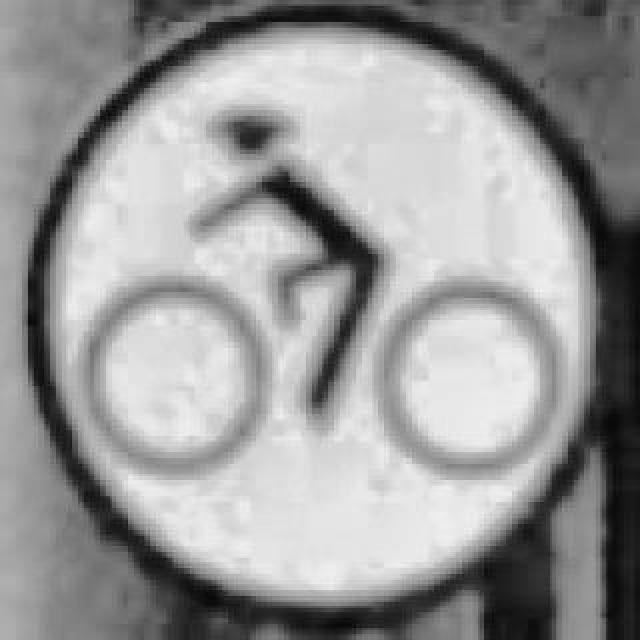bike lane: (22, 6, 612, 618)
